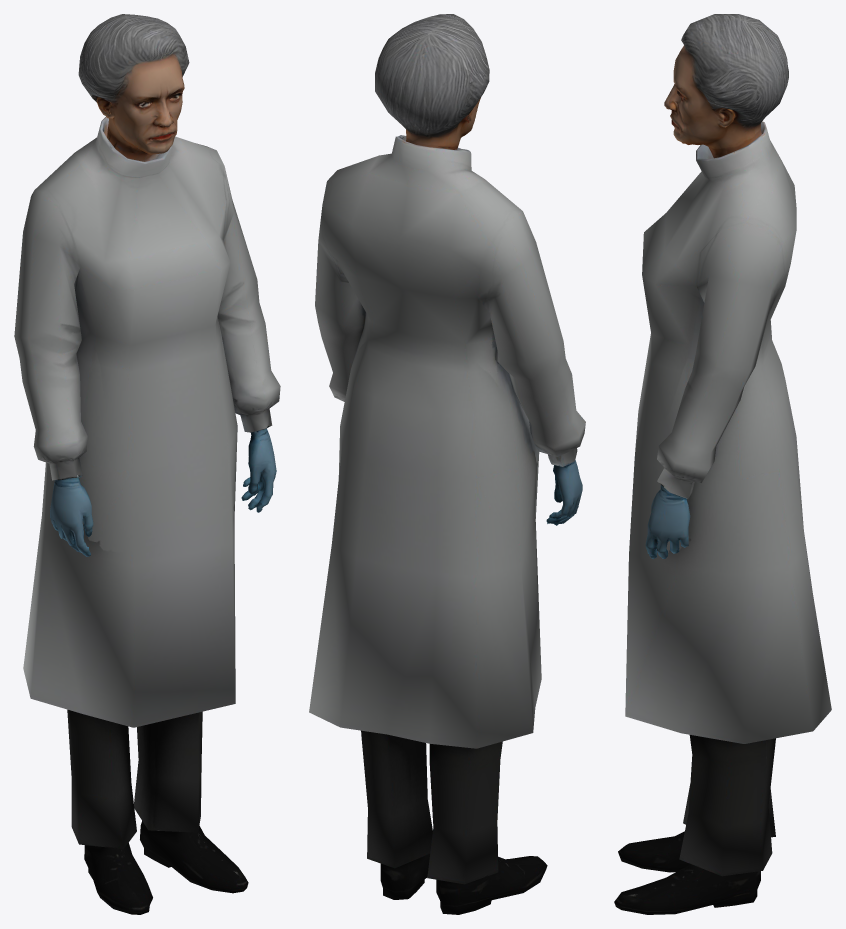
The model's file is selected.glb.
The picture shows the model from 3 angles, left to right: view 1: azimuth 30°, elevation 25°; view 2: azimuth 150°, elevation 25°; view 3: azimuth 270°, elevation 25°; orthographic projection. The views are drawn at different scales.
Visible parts, largest first — view 1: tripo_node_061758db-2941-40b0-9d60-622c5f1834a2; view 2: tripo_node_061758db-2941-40b0-9d60-622c5f1834a2; view 3: tripo_node_061758db-2941-40b0-9d60-622c5f1834a2.
Part boxes in pixels (box(x1,y1,x2,y2)): tripo_node_061758db-2941-40b0-9d60-622c5f1834a2: box(14, 14, 280, 914); tripo_node_061758db-2941-40b0-9d60-622c5f1834a2: box(309, 14, 585, 914); tripo_node_061758db-2941-40b0-9d60-622c5f1834a2: box(614, 14, 831, 914).
Bounding box in the file's own units: 0.2949 × 0.998 × 0.2285.
Materials: 1 (1 with a texture image).
